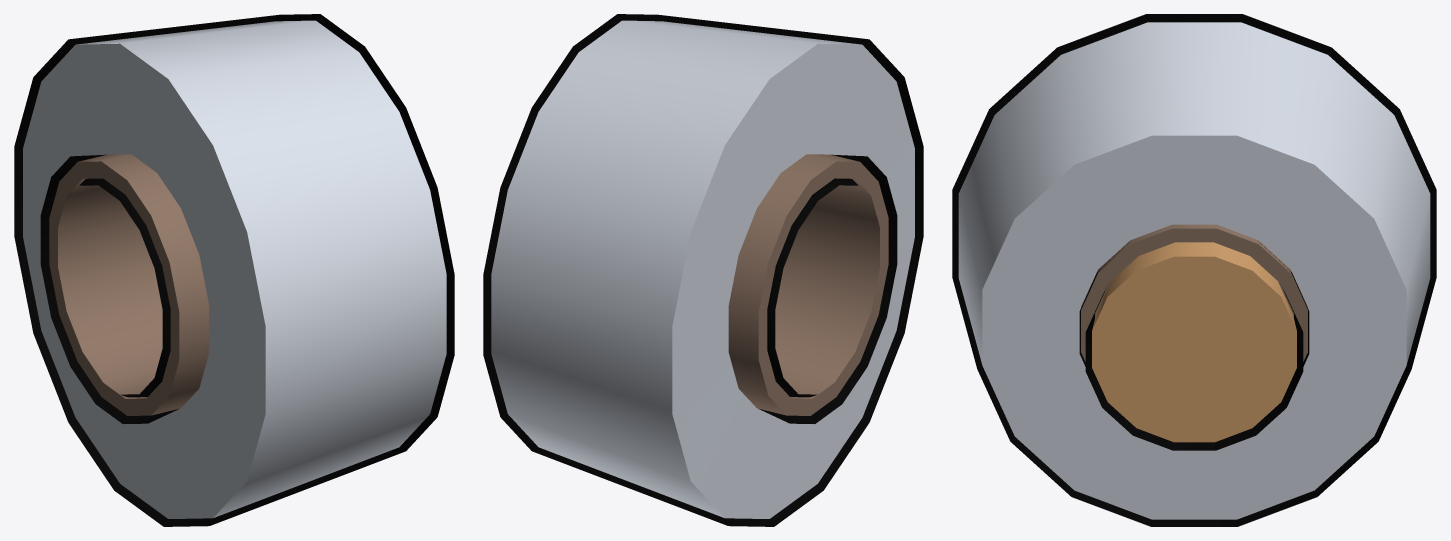
Rendered from Wheel_Large_Paper_Roll_01.fbx.
3 renders of one model, left to right at view 1: azimuth 30°, elevation 25°; view 2: azimuth 150°, elevation 25°; view 3: azimuth 270°, elevation 25°, orthographic. The views are drawn at different scales.
Visible parts, largest first — view 1: WH_PaperRoll; view 2: WH_PaperRoll; view 3: WH_PaperRoll.
Part boxes in pixels (x1,y1,x2,y2): WH_PaperRoll: (14,14,454,526); WH_PaperRoll: (483,14,923,526); WH_PaperRoll: (952,14,1436,526).
Size of the model in its own units: 107 by 166 by 166.
